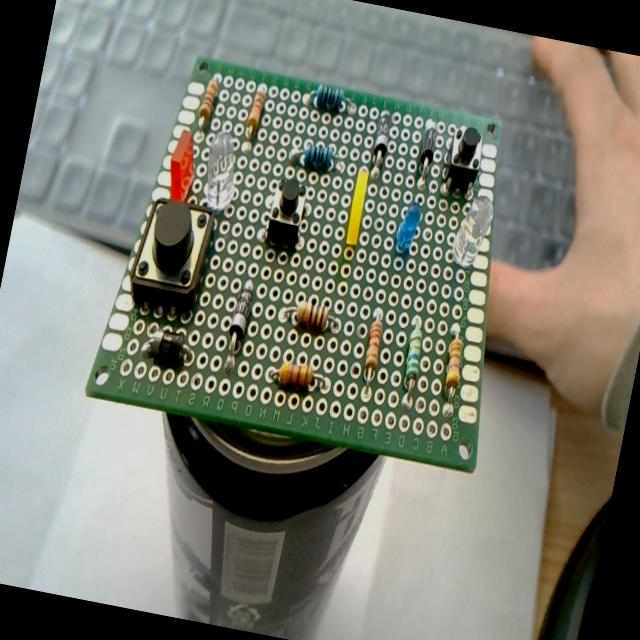diode: (220, 276, 258, 378), (138, 324, 198, 372), (343, 167, 372, 250), (367, 109, 396, 183), (413, 122, 440, 192)
led: (197, 130, 245, 216), (164, 126, 202, 204), (393, 198, 424, 255)
resistor: (450, 190, 497, 272), (395, 318, 429, 408), (280, 294, 342, 336), (306, 82, 358, 119), (361, 316, 386, 380), (441, 334, 467, 394), (274, 359, 316, 392), (197, 72, 221, 126), (299, 139, 335, 174), (245, 84, 268, 136)
switch: (125, 193, 218, 318), (438, 121, 488, 201), (264, 174, 310, 252)
